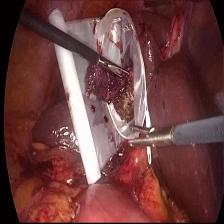Grasper: (128, 122, 179, 152), (97, 52, 131, 83)
Specimen Bag: (46, 6, 167, 193)
